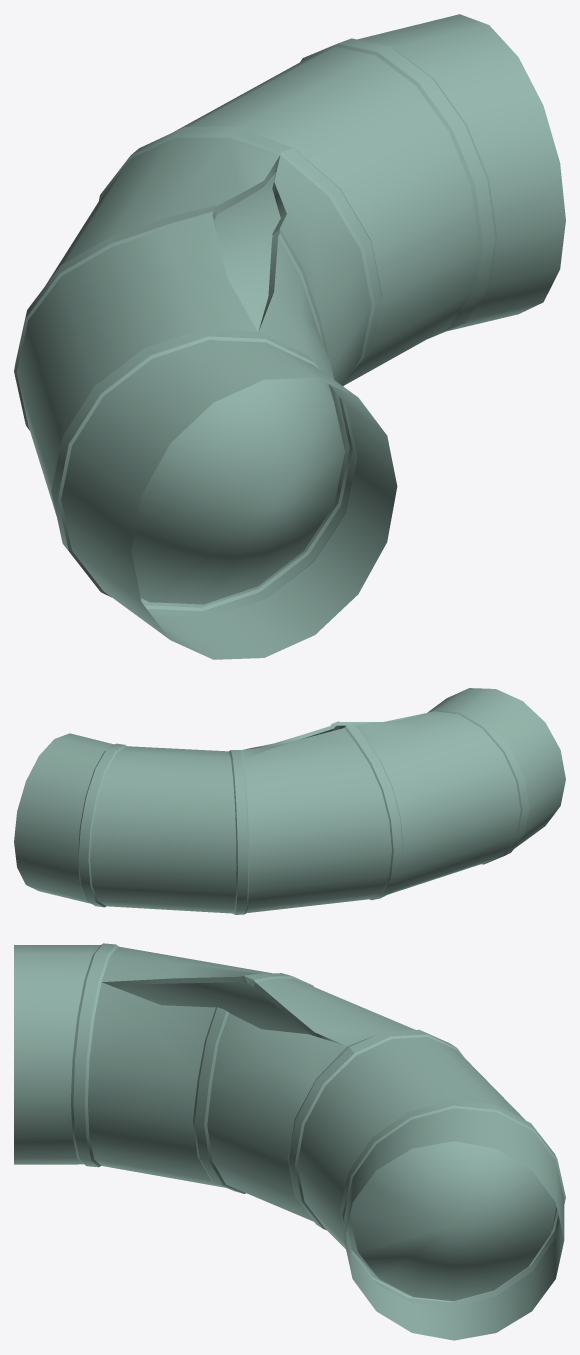
File: PipeLarge_BrokenStepped_Bent_02.fbx
The picture shows the model from 3 angles, top to bottom: view 1: azimuth 30°, elevation 25°; view 2: azimuth 150°, elevation 25°; view 3: azimuth 270°, elevation 25°; orthographic projection. The views are drawn at different scales.
Visible parts, largest first — view 1: PipeLarge_BrokenStepped_Bent_02.001; view 2: PipeLarge_BrokenStepped_Bent_02.001; view 3: PipeLarge_BrokenStepped_Bent_02.001.
Boxes of the visible parts, x1,y1,x2,y2 form: PipeLarge_BrokenStepped_Bent_02.001: (14, 14, 565, 659); PipeLarge_BrokenStepped_Bent_02.001: (14, 688, 565, 914); PipeLarge_BrokenStepped_Bent_02.001: (14, 943, 565, 1340).
Size of the model in its own units: 0.5016 by 0.2192 by 0.5016.
